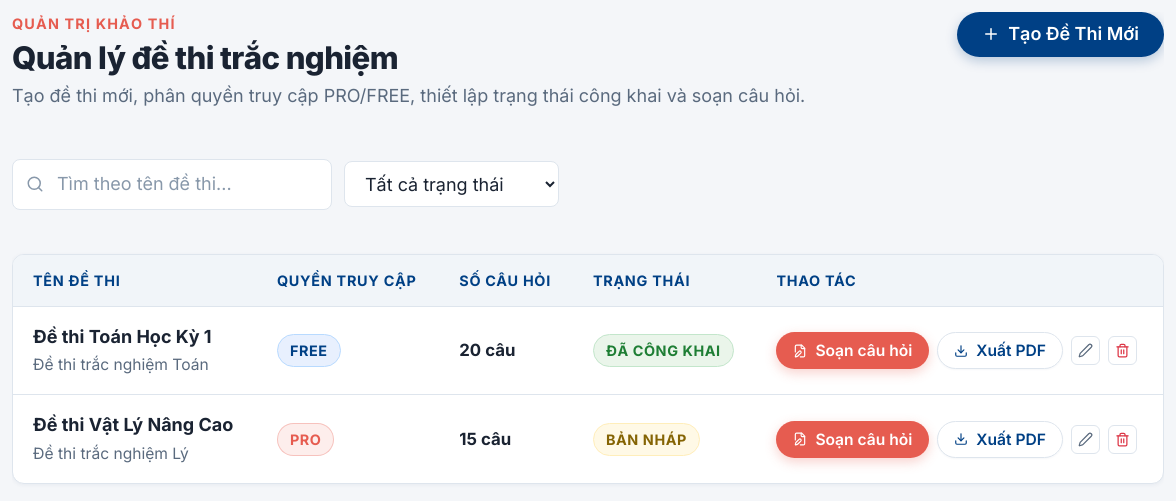
it: ExamsManagementPage - Export Exam PDF › displays "Không thể xuất PDF. Vui lòng thử lại." on other errors (500, network error)
Expected: the text "Đề thi Toán Học Kỳ 1" is shown, [33,326,212,347]
Click the button "Xuất PDF" in the row of "Đề thi Toán Học Kỳ 1": click(1000, 351) [937,332,1063,369]
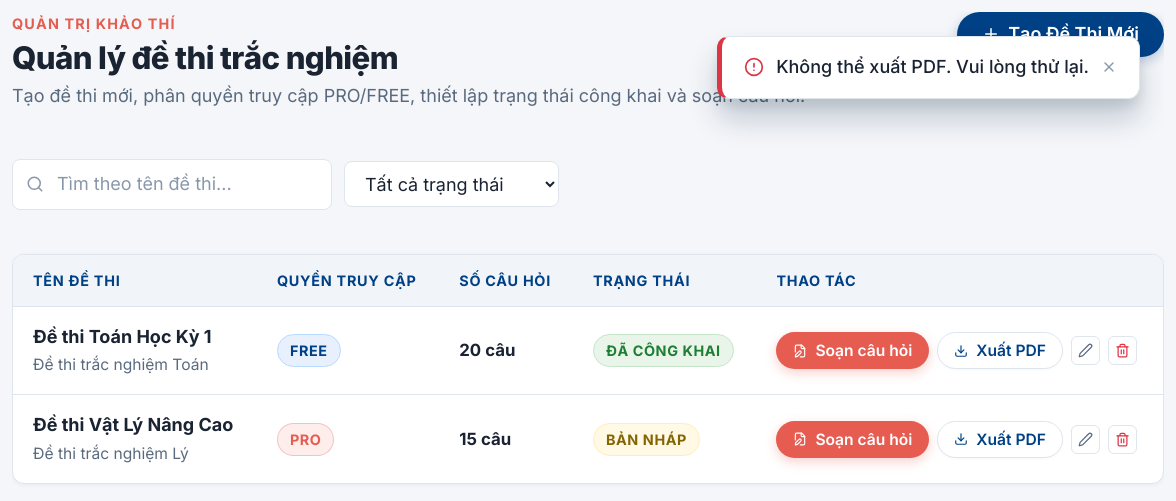
Expected: the text "Không thể xuất PDF. Vui lòng thử lại." is shown, [776,53,1089,82]
